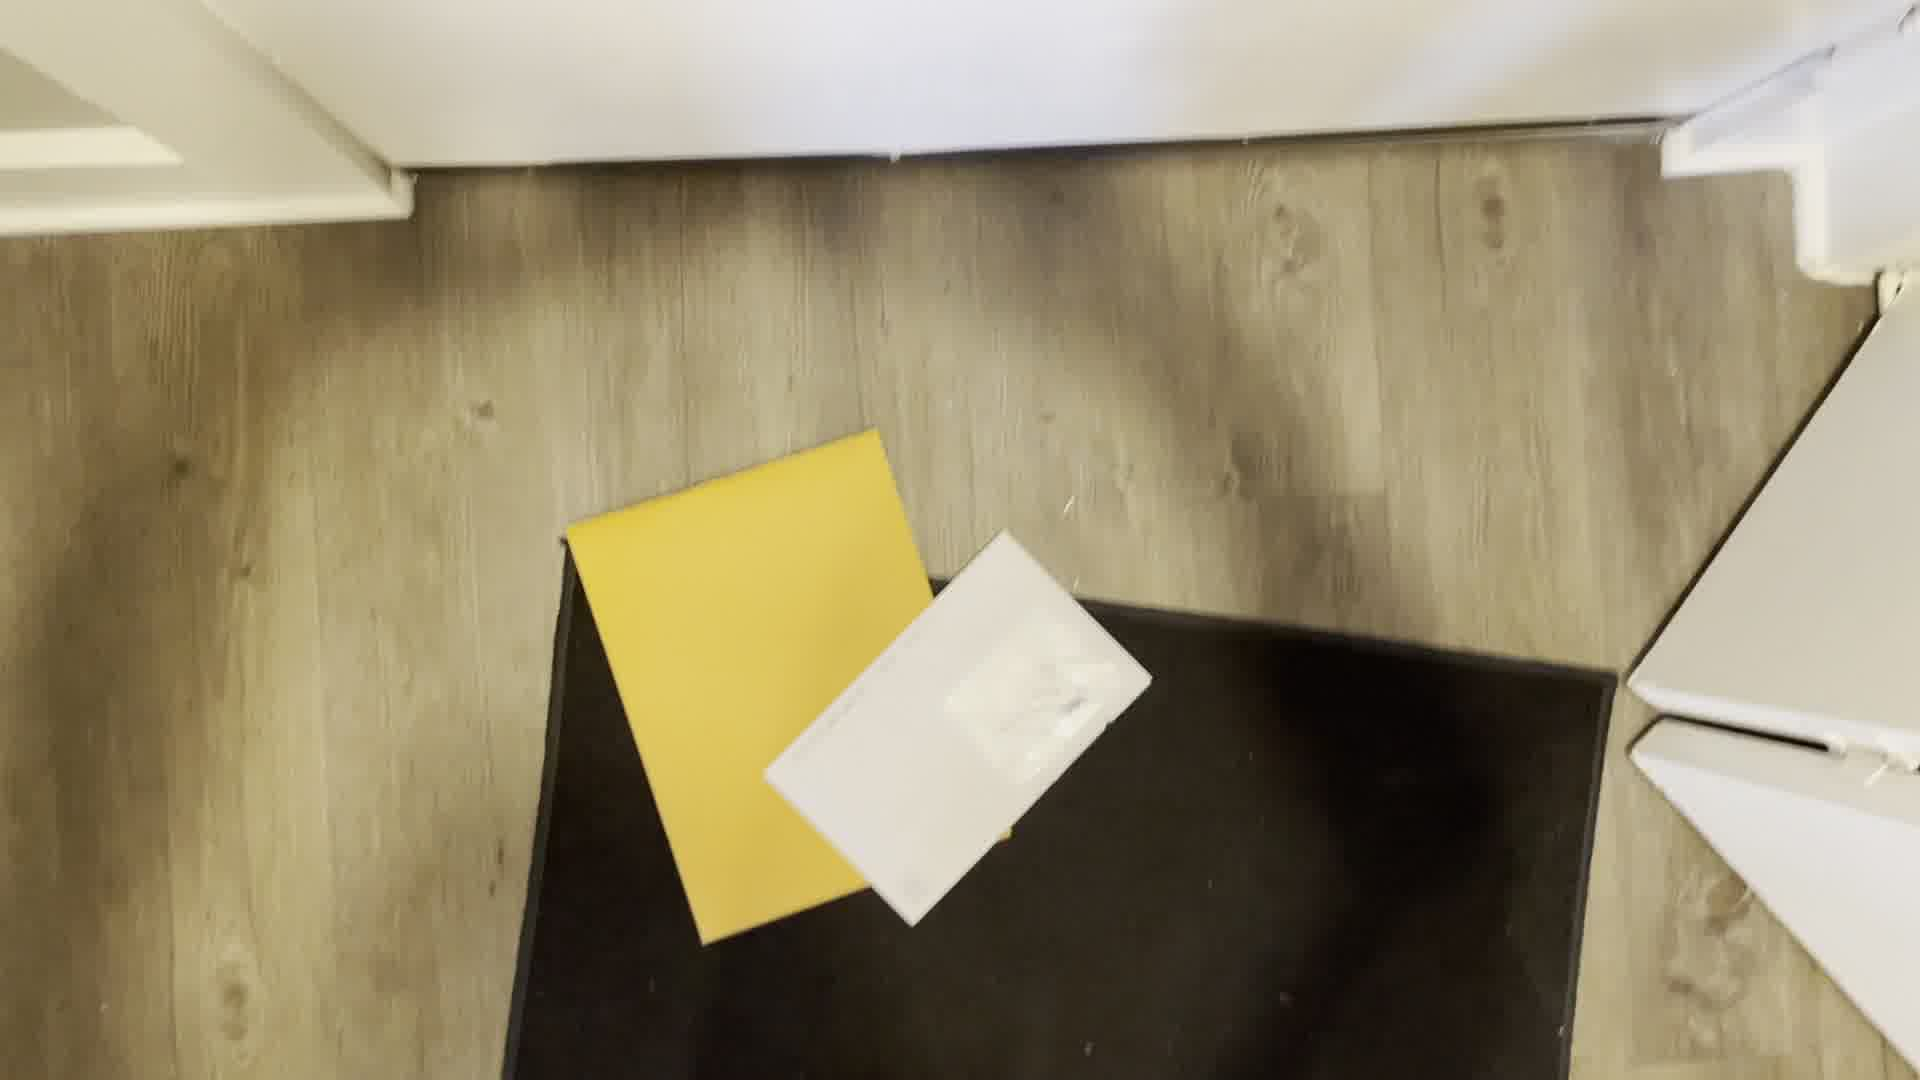envelope: (559, 426, 926, 945), (762, 524, 1149, 923)
